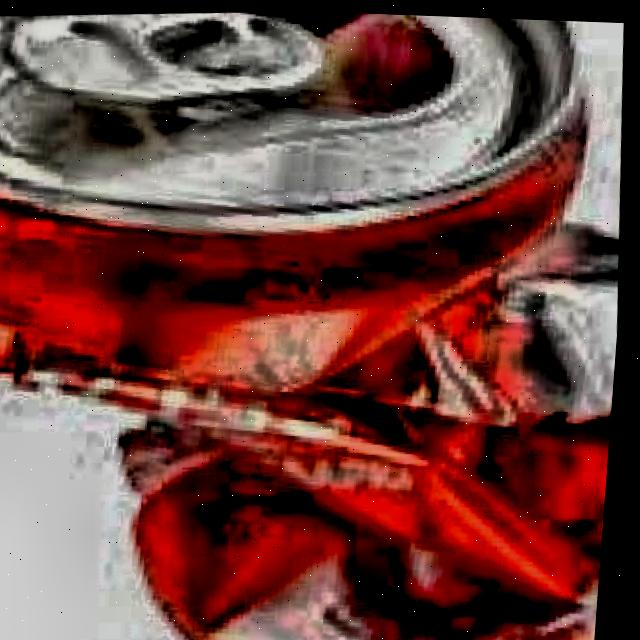metal: (0, 9, 622, 640)
